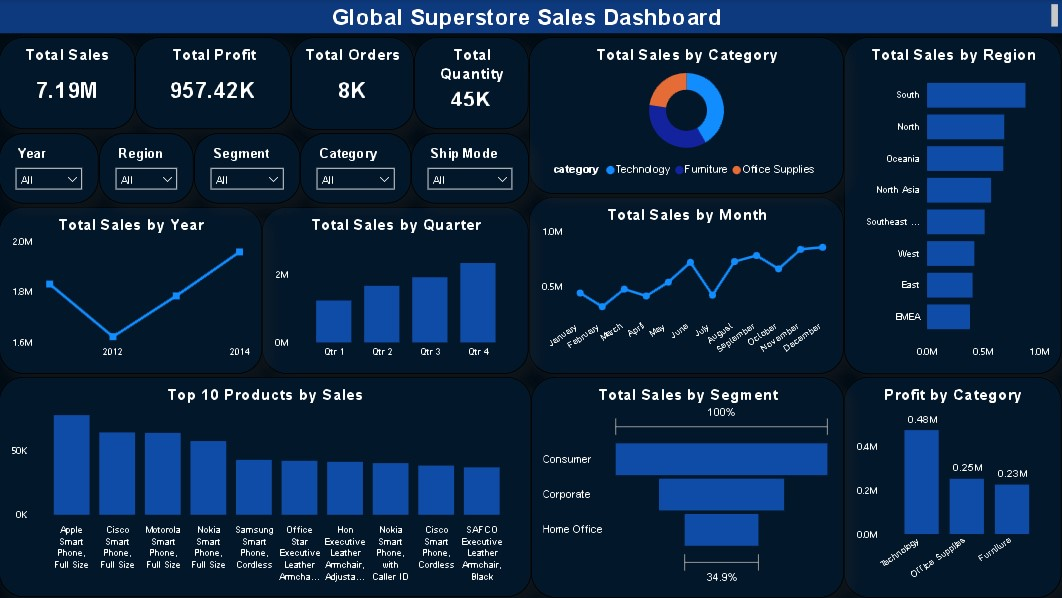

Layout of this report page (visuals, bound fields, positions):
{"tool":"powerbi","page":{"name":"Page 1","canvas":[1280,720],"ordinal":0},"visuals":[{"type":"cardVisual","title":"Total Sales","fields":{"Data":["SuperStoreOrders.total sales"]},"box":[0,44.5,163.7,110.8],"z":0},{"type":"cardVisual","title":"Total Profit","fields":{"Data":["Sum(SuperStoreOrders.profit)"]},"box":[163.7,44.5,187.8,110.8],"z":1000},{"type":"cardVisual","title":"Total Orders","fields":{"Data":["SuperStoreOrders.total orders"]},"box":[351.6,44.5,148.1,112],"z":2000},{"type":"cardVisual","title":"Total Quantity","fields":{"Data":["Sum(SuperStoreOrders.quantity)"]},"box":[499.7,44.5,138.5,110.8],"z":3000},{"type":"clusteredColumnChart","title":"Total Sales by Month","fields":{"Y":["SuperStoreOrders.total sales"],"Category":["SuperStoreOrders.order_date.Variation.Date Hierarchy.Month"]},"box":[638.1,237.2,379.3,213.1],"z":4000},{"type":"clusteredColumnChart","title":"Total Sales by Quarter","fields":{"Category":["SuperStoreOrders.order_date.Variation.Date Hierarchy.Quarter"],"Y":["SuperStoreOrders.total sales"]},"box":[316.7,249.2,321.5,201.1],"z":5000},{"type":"clusteredColumnChart","title":"Total Sales by Year","fields":{"Y":["SuperStoreOrders.total sales"],"Category":["SuperStoreOrders.year"]},"box":[0,249.2,316.7,201.1],"z":6000},{"type":"clusteredBarChart","title":"Total Sales by Region","fields":{"Category":["SuperStoreOrders.region"],"Y":["SuperStoreOrders.total sales"]},"box":[1017.4,44.5,262.5,405.8],"z":7000},{"type":"donutChart","title":"Total Sales by Category","fields":{"Category":["SuperStoreOrders.category"],"Y":["SuperStoreOrders.total sales"]},"box":[638.1,45,379.3,189],"z":8000},{"type":"columnChart","title":"Top 10 Products by Sale","fields":{"Category":["SuperStoreOrders.product_name"],"Y":["SuperStoreOrders.total sales"]},"box":[0,453.9,640.5,264.9],"z":9000},{"type":"clusteredColumnChart","title":"Profit by Category","fields":{"Category":["SuperStoreOrders.category"],"Y":["Sum(SuperStoreOrders.profit)"]},"box":[1017.4,453.9,262,266.1],"z":10000},{"type":"stackedAreaChart","title":"Total Sales by Segment","fields":{"Category":["SuperStoreOrders.segment"],"Y":["SuperStoreOrders.total sales"]},"box":[640.5,453.9,376.9,266.1],"z":11000},{"type":"slicer","fields":{"Values":["SuperStoreOrders.year"]},"box":[0,160,120.4,85.5],"z":12000},{"type":"slicer","fields":{"Values":["SuperStoreOrders.region"]},"box":[120.4,160.1,114.4,85.5],"z":13000},{"type":"slicer","fields":{"Values":["SuperStoreOrders.segment"]},"box":[234.8,160.1,127.6,85.5],"z":14000},{"type":"slicer","fields":{"Values":["SuperStoreOrders.category"]},"box":[362.4,160.1,133.6,85.5],"z":15000},{"type":"slicer","fields":{"Values":["SuperStoreOrders.ship_mode"]},"box":[496.1,160.1,142.1,85.5],"z":16000},{"type":"textbox","box":[0,0,1280.1,40.3],"z":17000}]}

Visuals, with their boxes in screenshot pixels (x1, y1, x2, y2), scaled from the page's 1280x720 canvas onto the 1062x598 screenshot:
"Total Sales" cardVisual: <bbox>0, 37, 136, 129</bbox>
"Total Profit" cardVisual: <bbox>136, 37, 292, 129</bbox>
"Total Orders" cardVisual: <bbox>292, 37, 415, 130</bbox>
"Total Quantity" cardVisual: <bbox>415, 37, 530, 129</bbox>
"Total Sales by Month" clusteredColumnChart: <bbox>529, 197, 844, 374</bbox>
"Total Sales by Quarter" clusteredColumnChart: <bbox>263, 207, 530, 374</bbox>
"Total Sales by Year" clusteredColumnChart: <bbox>0, 207, 263, 374</bbox>
"Total Sales by Region" clusteredBarChart: <bbox>844, 37, 1061, 374</bbox>
"Total Sales by Category" donutChart: <bbox>529, 37, 844, 194</bbox>
"Top 10 Products by Sale" columnChart: <bbox>0, 377, 531, 597</bbox>
"Profit by Category" clusteredColumnChart: <bbox>844, 377, 1061, 597</bbox>
"Total Sales by Segment" stackedAreaChart: <bbox>531, 377, 844, 597</bbox>
slicer - SuperStoreOrders.year: <bbox>0, 133, 100, 204</bbox>
slicer - SuperStoreOrders.region: <bbox>100, 133, 195, 204</bbox>
slicer - SuperStoreOrders.segment: <bbox>195, 133, 301, 204</bbox>
slicer - SuperStoreOrders.category: <bbox>301, 133, 412, 204</bbox>
slicer - SuperStoreOrders.ship_mode: <bbox>412, 133, 530, 204</bbox>
textbox: <bbox>0, 0, 1061, 33</bbox>
